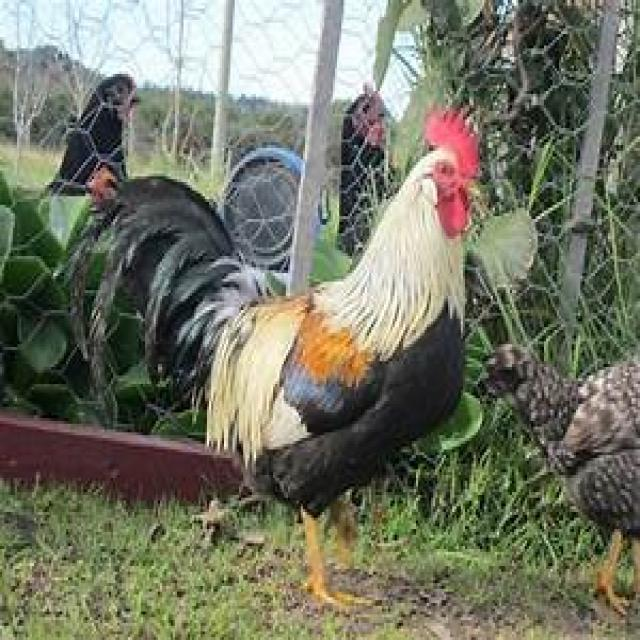hen: (113, 108, 486, 614)
